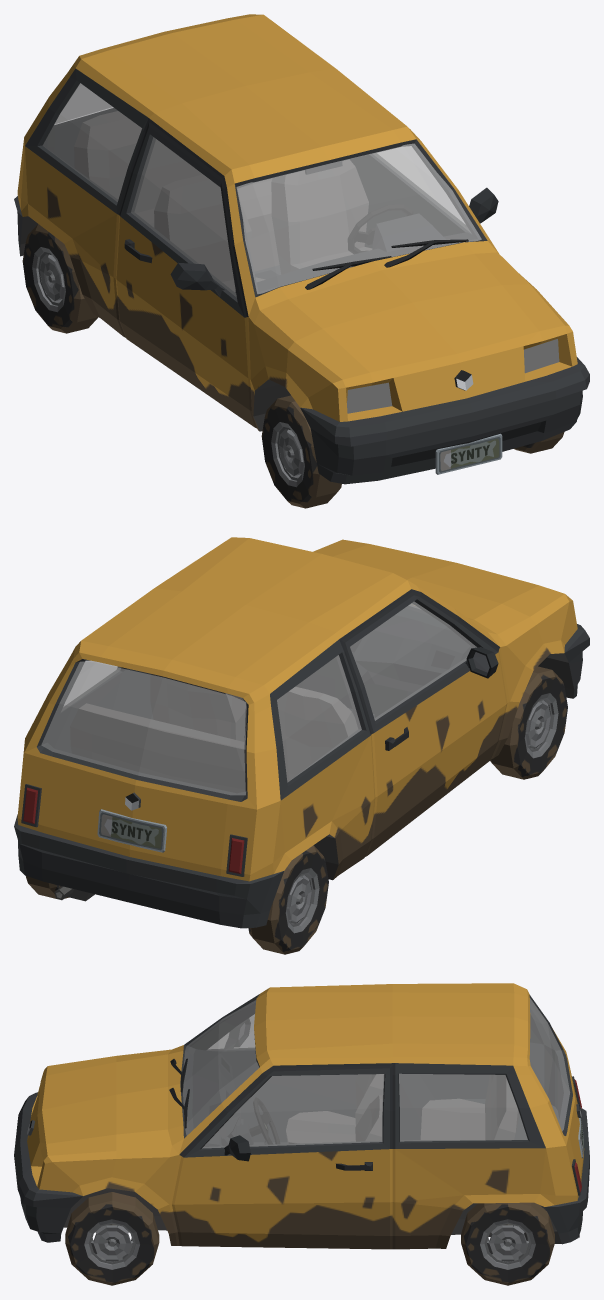
Rendered from SM_Veh_Car_Small_01.fbx.
3 views of the same model, one above another, from view 1: azimuth 30°, elevation 25°; view 2: azimuth 150°, elevation 25°; view 3: azimuth 270°, elevation 25° (orthographic). The views are drawn at different scales.
Visible parts, largest first — view 1: SM_Veh_Car_Small_01, SM_Veh_Car_Small_01_Glass, SM_Veh_Car_Small_01_Wheel_fr, SM_Veh_Car_Small_01_Wheel_rr, SM_Veh_Car_Small_01_SteeringW; view 2: SM_Veh_Car_Small_01, SM_Veh_Car_Small_01_Glass, SM_Veh_Car_Small_01_Wheel_fr, SM_Veh_Car_Small_01_Wheel_rr; view 3: SM_Veh_Car_Small_01, SM_Veh_Car_Small_01_Glass, SM_Veh_Car_Small_01_Wheel_fl, SM_Veh_Car_Small_01_Wheel_rl, SM_Veh_Car_Small_01_SteeringW.
Part boxes in pixels (x1,y1,x2,y2): SM_Veh_Car_Small_01: [14, 14, 589, 484]; SM_Veh_Car_Small_01_Glass: [42, 83, 481, 297]; SM_Veh_Car_Small_01_Wheel_fr: [261, 395, 341, 508]; SM_Veh_Car_Small_01_Wheel_rr: [22, 224, 98, 333]; SM_Veh_Car_Small_01_SteeringW: [347, 204, 413, 254]; SM_Veh_Car_Small_01: [14, 537, 589, 928]; SM_Veh_Car_Small_01_Glass: [41, 601, 476, 795]; SM_Veh_Car_Small_01_Wheel_fr: [490, 666, 567, 779]; SM_Veh_Car_Small_01_Wheel_rr: [248, 845, 328, 954]; SM_Veh_Car_Small_01: [14, 983, 589, 1249]; SM_Veh_Car_Small_01_Glass: [183, 998, 569, 1148]; SM_Veh_Car_Small_01_Wheel_fl: [65, 1192, 159, 1285]; SM_Veh_Car_Small_01_Wheel_rl: [461, 1202, 554, 1285]; SM_Veh_Car_Small_01_SteeringW: [249, 1097, 280, 1144].
Size of the model in its own units: 205 by 162 by 385.
